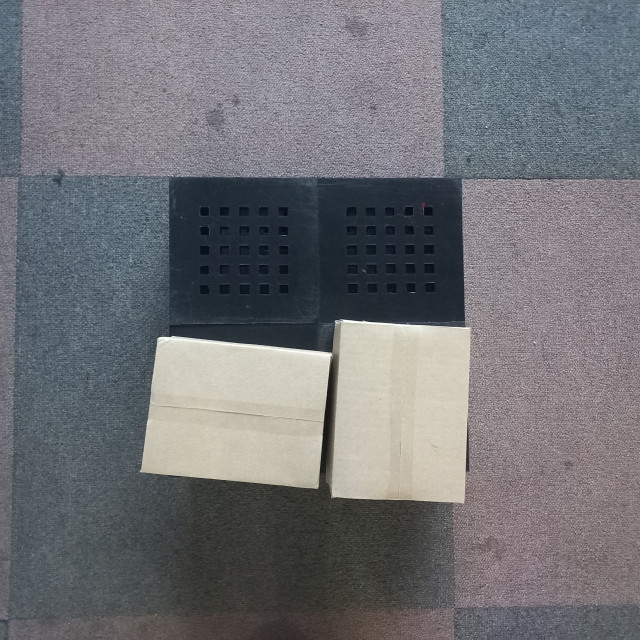box: (139, 335, 331, 491), (326, 317, 470, 506)
